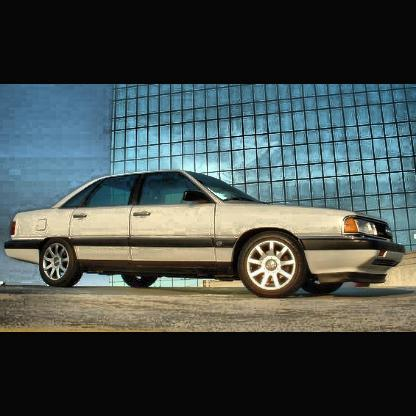Audi 100 Sedan 1994: (4, 171, 406, 299)
